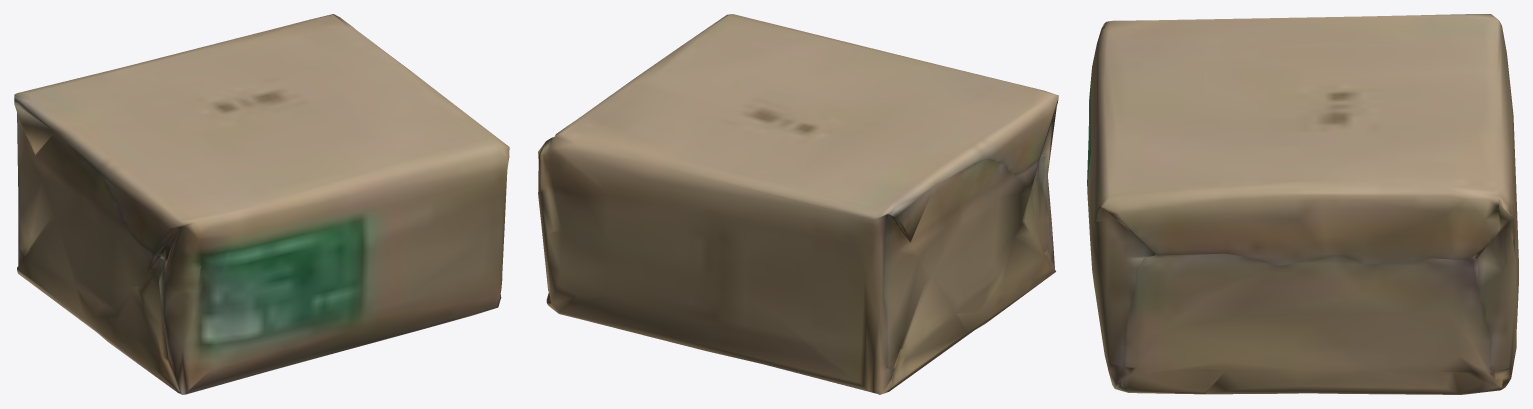
Rendered from INTERNATIONAL_PAPER_Willamette_4_Brown_Bag_500Count-medium.glb.
The picture shows the model from 3 angles, left to right: view 1: azimuth 30°, elevation 25°; view 2: azimuth 150°, elevation 25°; view 3: azimuth 270°, elevation 25°; orthographic projection. The views are drawn at different scales.
Parts seen in each view (by area): view 1: INTERNATIONAL_PAPER_Willamette_4_Brown_Bag_500Count; view 2: INTERNATIONAL_PAPER_Willamette_4_Brown_Bag_500Count; view 3: INTERNATIONAL_PAPER_Willamette_4_Brown_Bag_500Count.
Boxes of the visible parts, bbox=[...] form: INTERNATIONAL_PAPER_Willamette_4_Brown_Bag_500Count: bbox=[14, 14, 509, 394]; INTERNATIONAL_PAPER_Willamette_4_Brown_Bag_500Count: bbox=[538, 14, 1058, 394]; INTERNATIONAL_PAPER_Willamette_4_Brown_Bag_500Count: bbox=[1087, 14, 1518, 394].
Size of the model in its own units: 0.2699 by 0.139 by 0.2574.
1 material, 1 textured.
